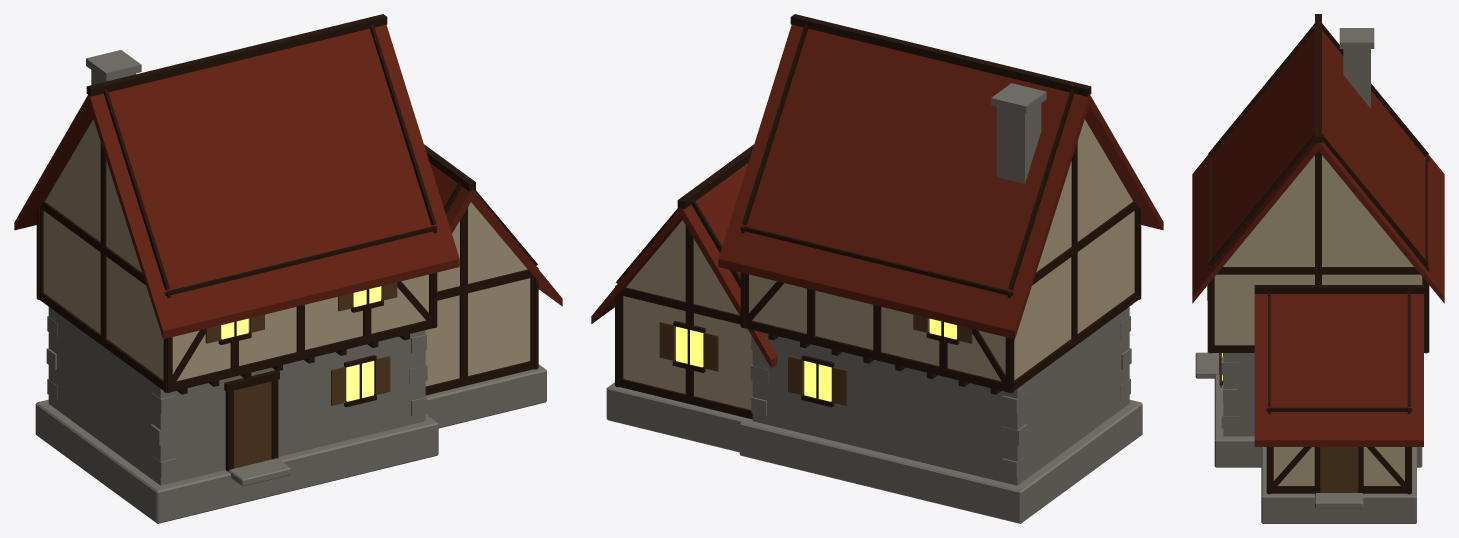
The model's file is casa_b.fbx.
3 renders of one model, left to right at view 1: azimuth 30°, elevation 25°; view 2: azimuth 150°, elevation 25°; view 3: azimuth 270°, elevation 25°, orthographic. The views are drawn at different scales.
Parts seen in each view (by area): view 1: casa_b; view 2: casa_b; view 3: casa_b.
Part boxes in pixels (box(x1,y1,x2,y2)): casa_b: box(14, 14, 562, 523); casa_b: box(591, 14, 1163, 523); casa_b: box(1192, 14, 1444, 523).
Bounding box in the file's own units: 12.6 × 10.67 × 7.3.
